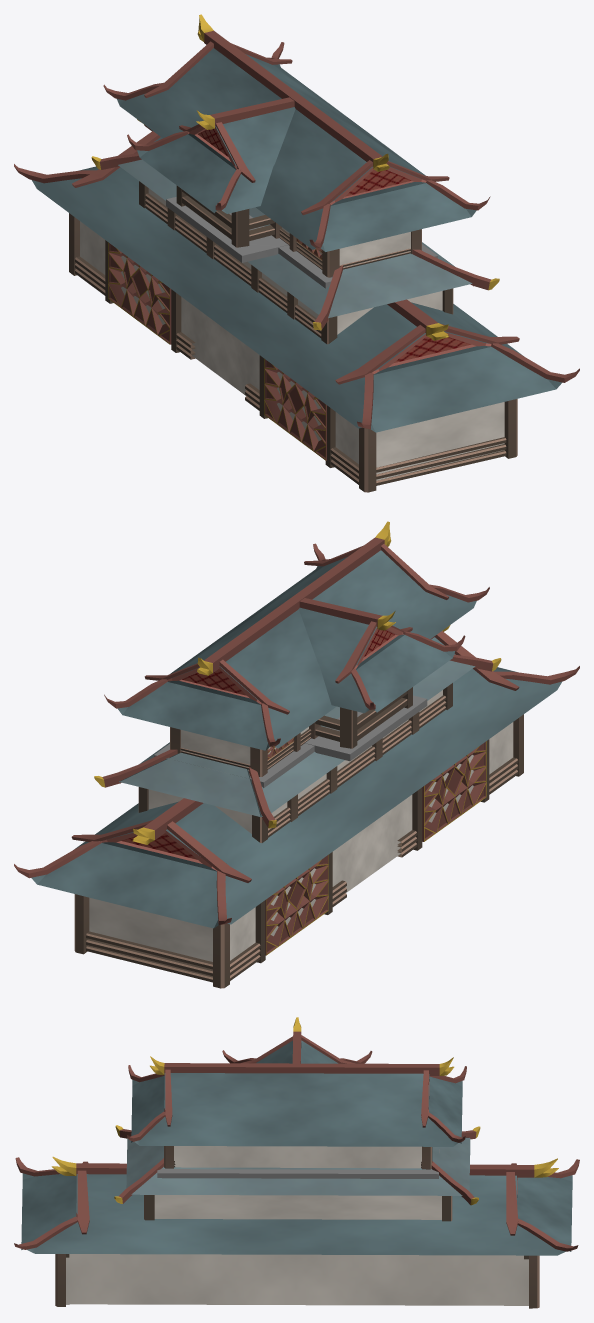
Rendered from lvl_5.fbx.
The picture shows the model from 3 angles, top to bottom: view 1: azimuth 30°, elevation 25°; view 2: azimuth 150°, elevation 25°; view 3: azimuth 270°, elevation 25°; orthographic projection. The views are drawn at different scales.
Parts seen in each view (by area): view 1: lvl_5; view 2: lvl_5; view 3: lvl_5.
Part boxes in pixels (box(x1,y1,x2,y2)): lvl_5: box(14, 14, 579, 492); lvl_5: box(14, 521, 579, 988); lvl_5: box(14, 1017, 579, 1308).
Size of the model in its own units: 735 by 822 by 1884.
